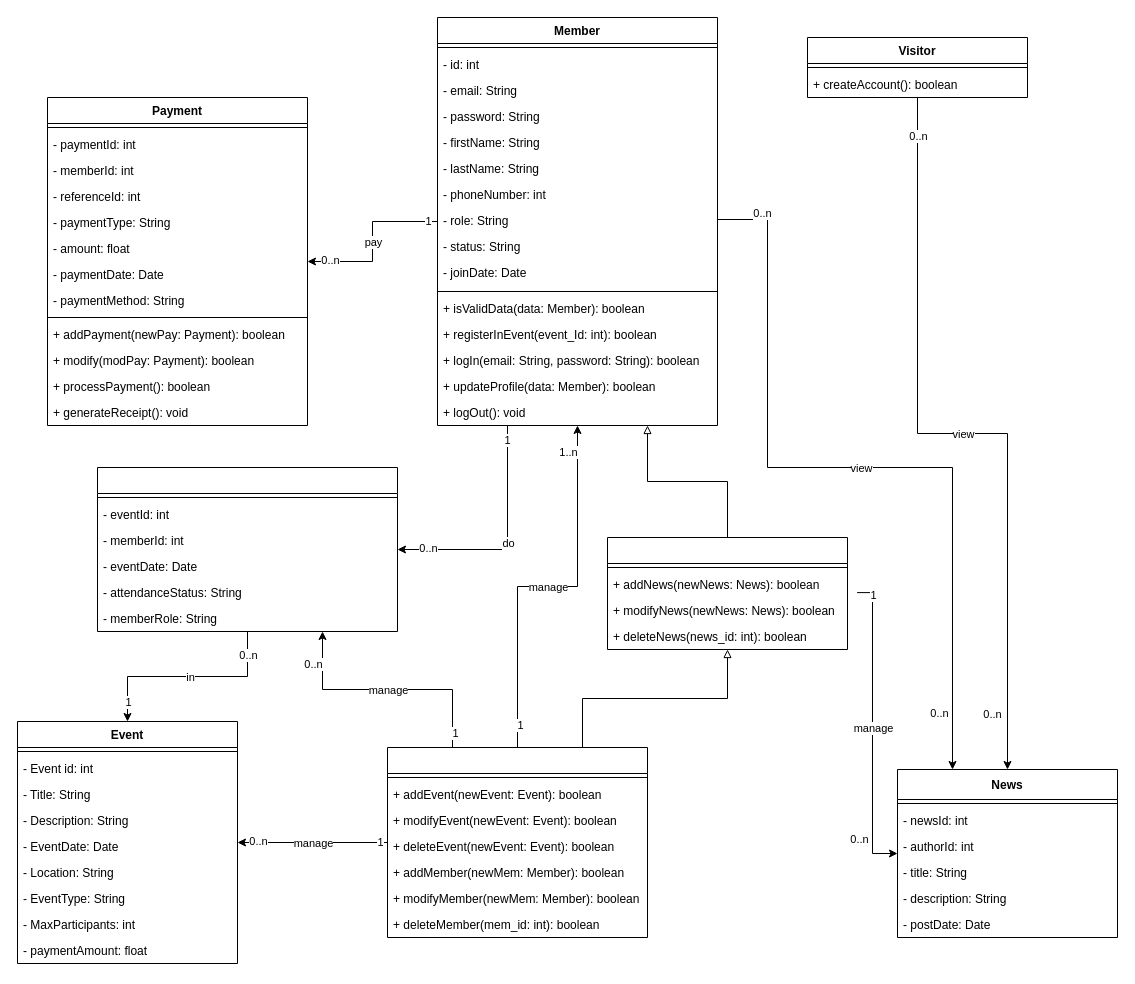
Image size: 1135x984. Some labels were removed from this diagram. The shapes that lost their labels are listed below. From the top down, each one's box as (x1, y1, x2, y2) in pixels, then its label:
(96, 466, 398, 632): Participation
(606, 536, 848, 650): Moderator
(386, 746, 648, 938): Admin
